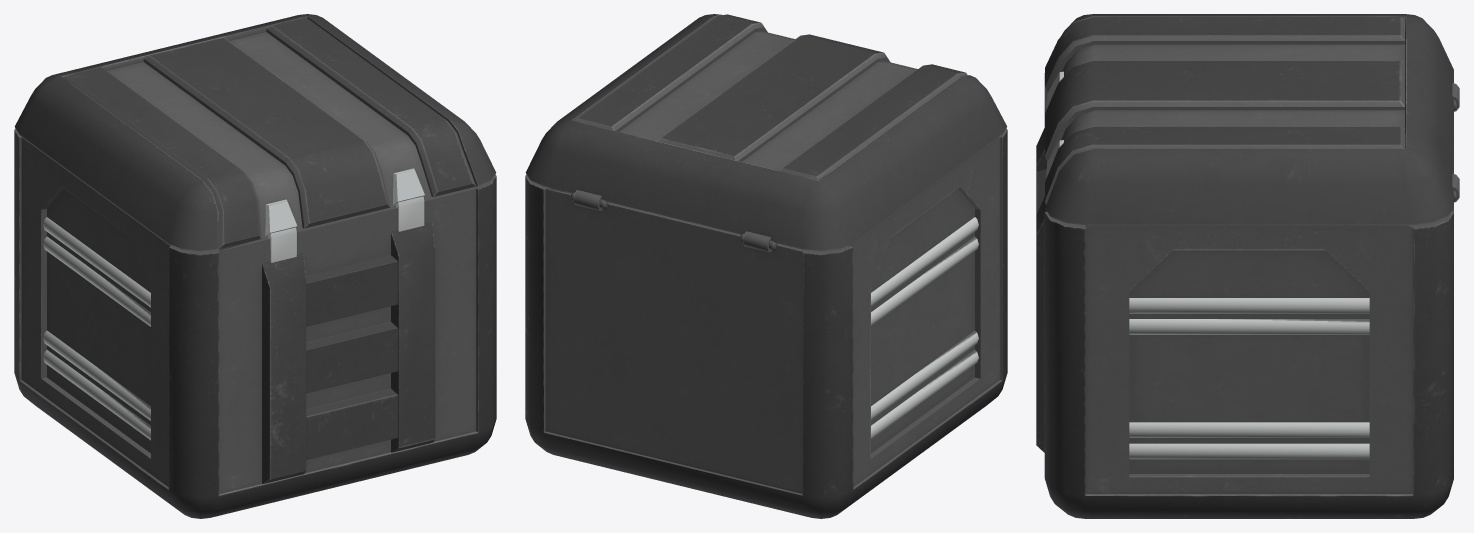
File: ScifiContainer.glb
3 views of the same model, side by side, from view 1: azimuth 30°, elevation 25°; view 2: azimuth 150°, elevation 25°; view 3: azimuth 270°, elevation 25° (orthographic). The views are drawn at different scales.
Visible parts, largest first — view 1: Container; view 2: Container; view 3: Container.
Part boxes in pixels (x1,y1,x2,y2): Container: [14, 14, 496, 518]; Container: [525, 14, 1007, 518]; Container: [1036, 14, 1459, 518].
Bounding box in the file's own units: 5.41 × 5.33 × 5.6.
1 material, 1 textured.
